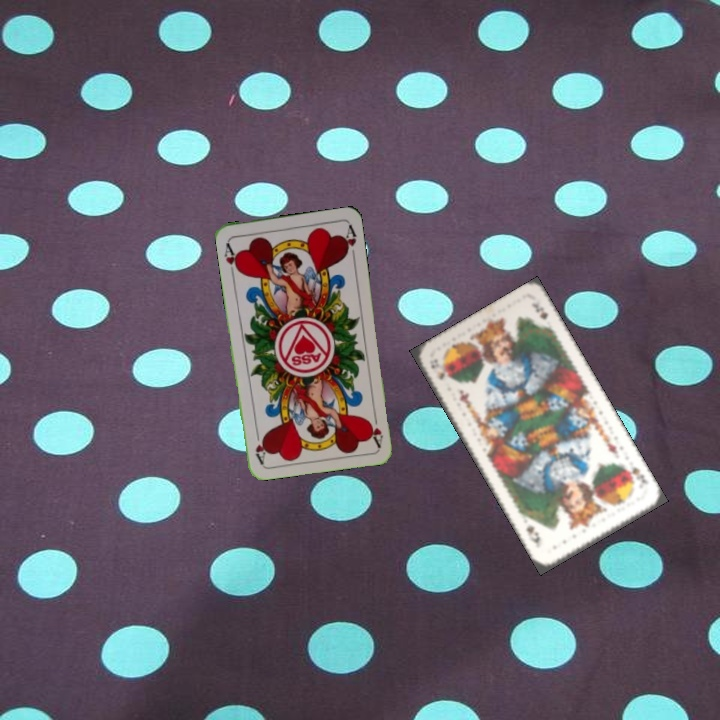HA: (220, 237, 242, 278), (364, 408, 386, 449)
SK: (620, 461, 651, 486), (425, 355, 448, 383)
